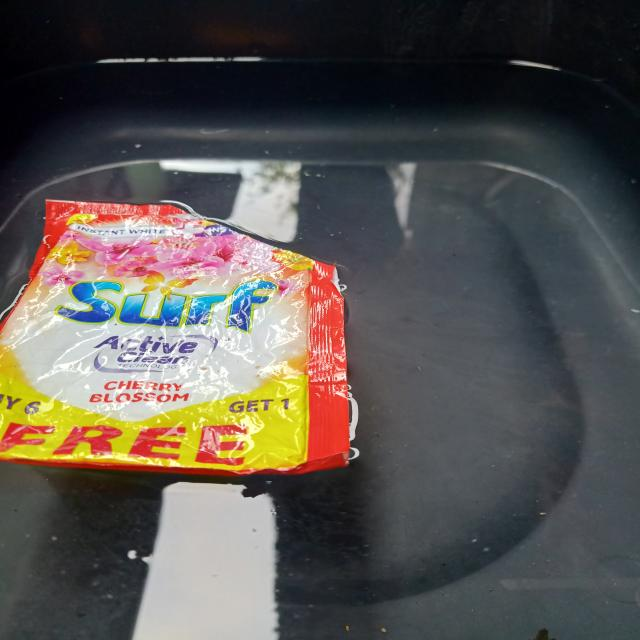Plastic Wrapper: (0, 175, 390, 502)
